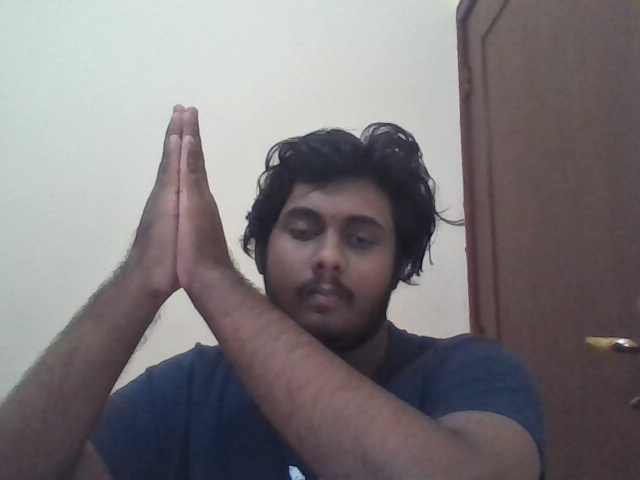namaste: (138, 104, 227, 292)
